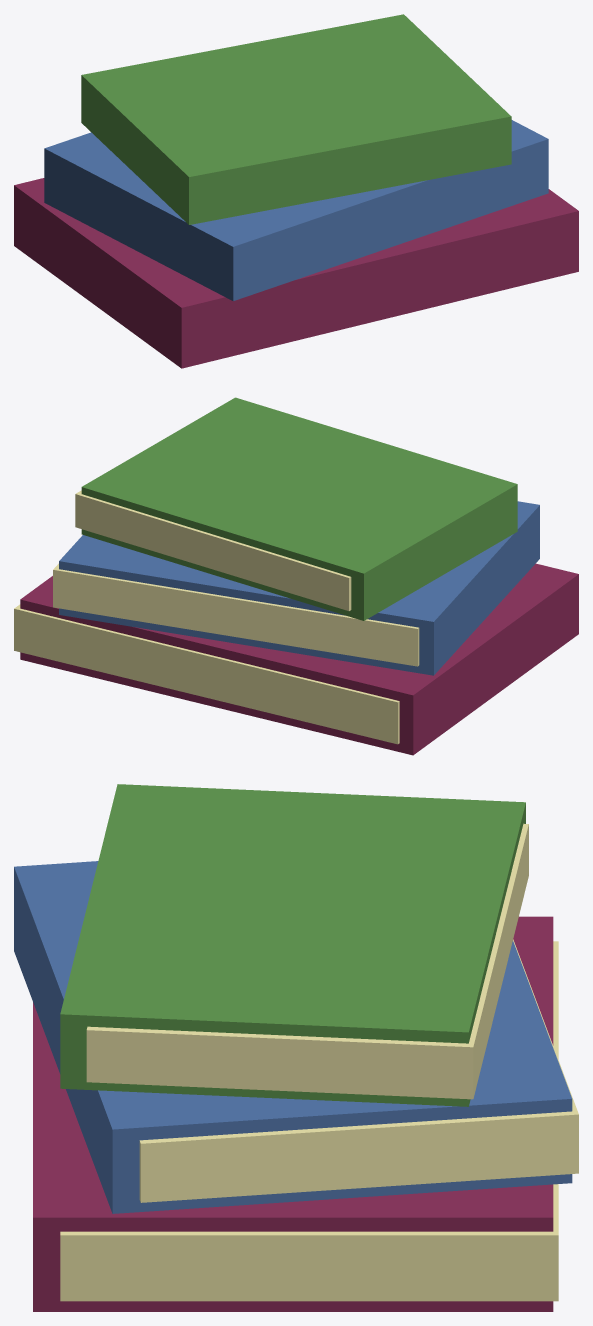
Rendered from books.glb.
3 renders of one model, top to bottom at view 1: azimuth 30°, elevation 25°; view 2: azimuth 150°, elevation 25°; view 3: azimuth 270°, elevation 25°, orthographic. The views are drawn at different scales.
Visible parts, largest first — view 1: Books; view 2: Books; view 3: Books.
Boxes of the visible parts, left/top/right/bottom form: Books: left=14, top=14, right=578, bottom=368; Books: left=14, top=397, right=578, bottom=755; Books: left=14, top=784, right=578, bottom=1311.
Bounding box in the file's own units: 2.63 × 1.02 × 2.06.
